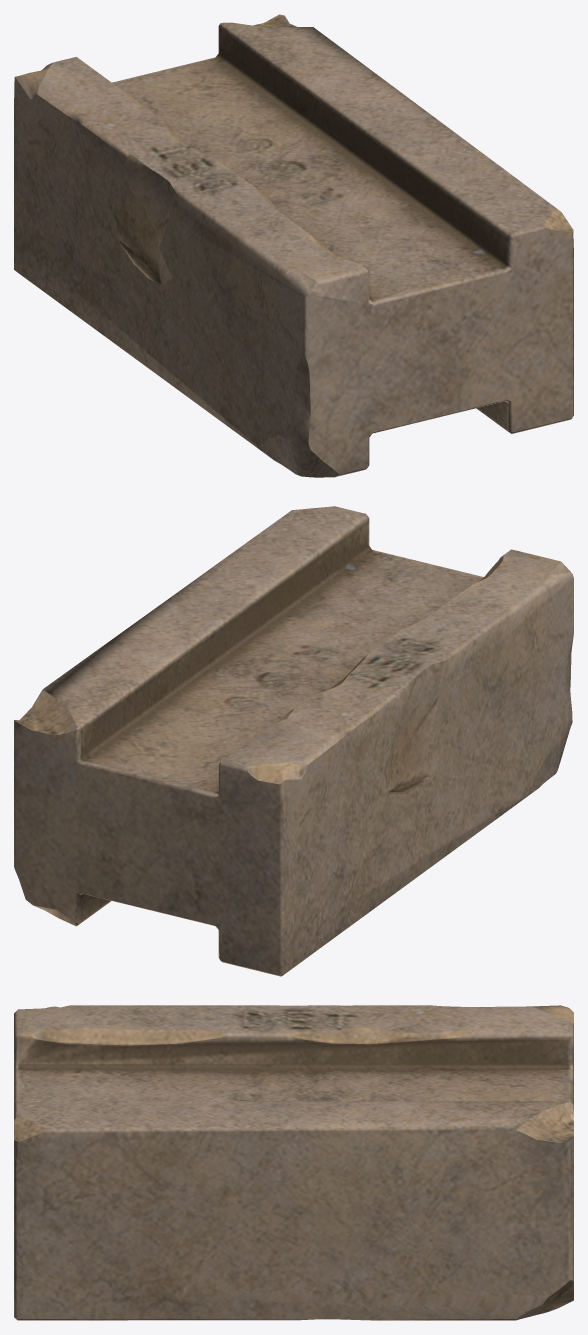
The model's file is MOD_DebrisBricks_B.fbx.
3 renders of one model, top to bottom at view 1: azimuth 30°, elevation 25°; view 2: azimuth 150°, elevation 25°; view 3: azimuth 270°, elevation 25°, orthographic. The views are drawn at different scales.
Parts seen in each view (by area): view 1: MOD_DebrisBricks_B; view 2: MOD_DebrisBricks_B; view 3: MOD_DebrisBricks_B.
Boxes of the visible parts, x1=… form: MOD_DebrisBricks_B: x1=14, y1=14, x2=573, y2=477; MOD_DebrisBricks_B: x1=14, y1=506, x2=573, y2=976; MOD_DebrisBricks_B: x1=14, y1=1005, x2=573, y2=1320.
Size of the model in its own units: 12.99 by 9.21 by 24.32.
